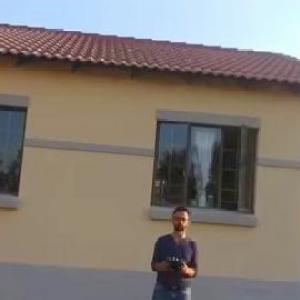follow: (144, 200, 204, 299)
